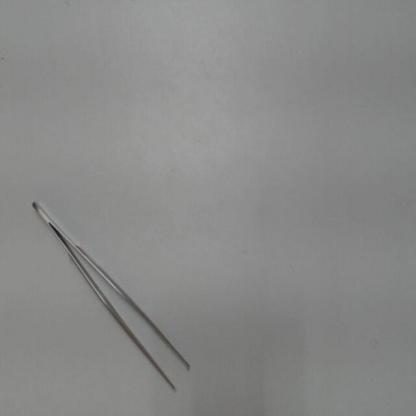Gillies Toothed Dissector: (30, 184, 204, 402)
